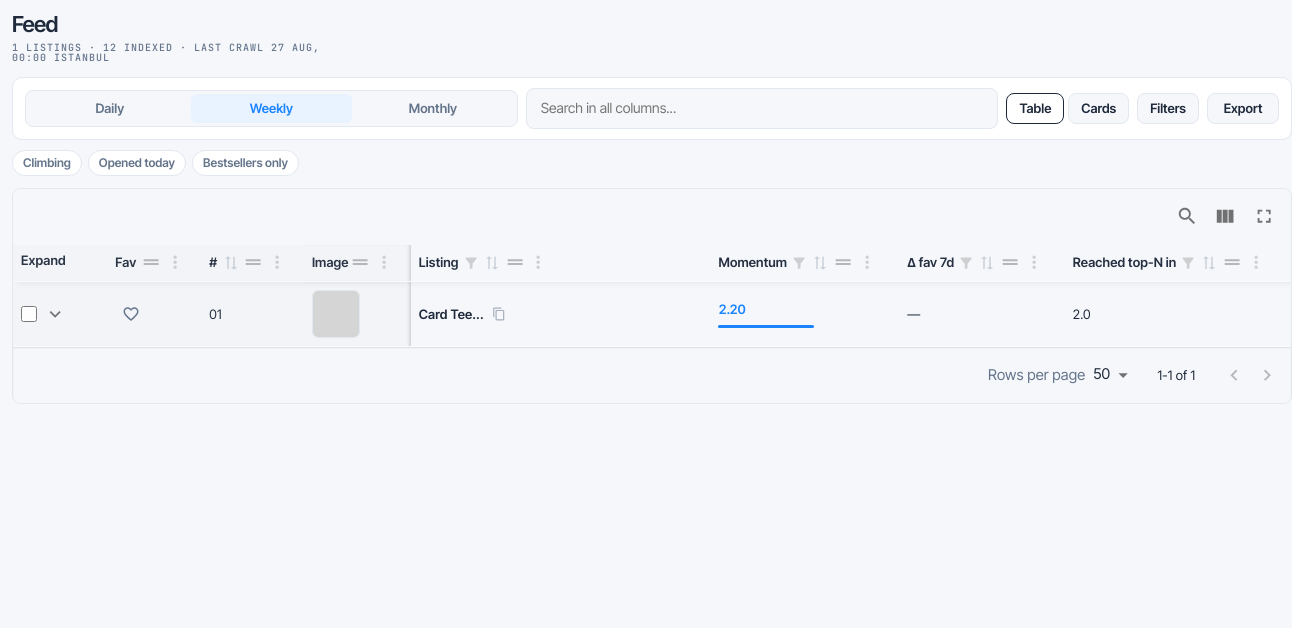
it: FeedPage › switches to card view
What coordinates should you click on to do the following:
click the button "Cards"
I would click on:
 (1099, 108)
Its box is [1068,93,1129,124].
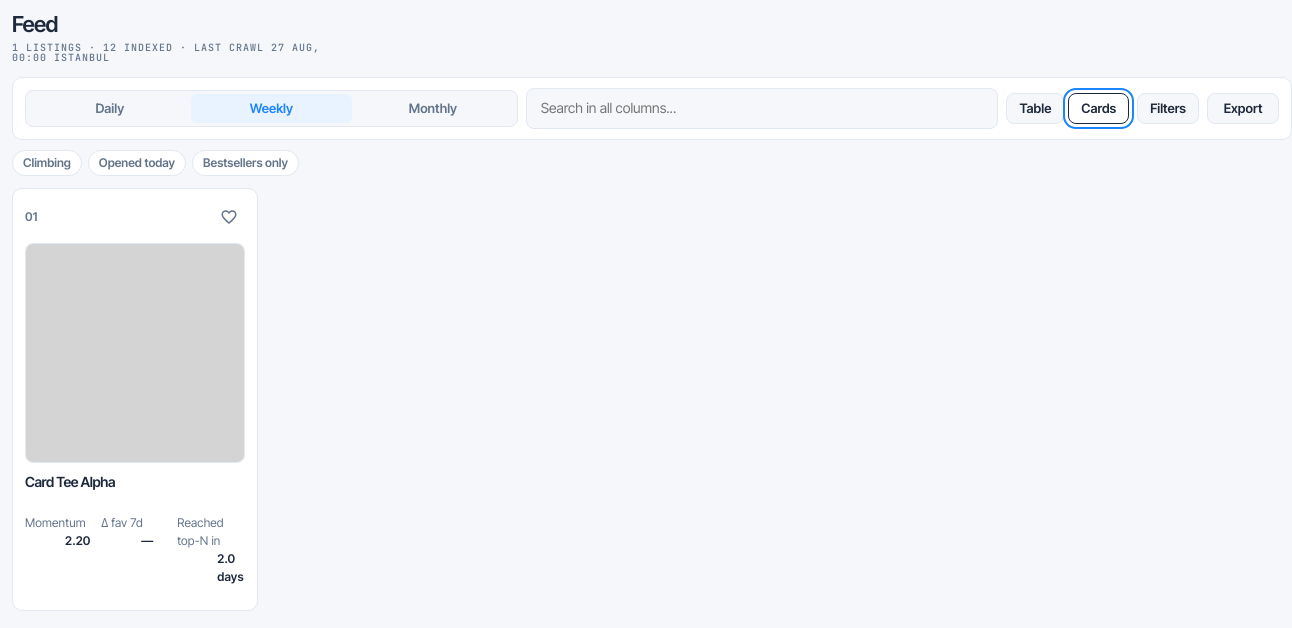
Check: the link "Card Tee Alpha" is shown, box [25,473,115,490]
Check: the table is gone
